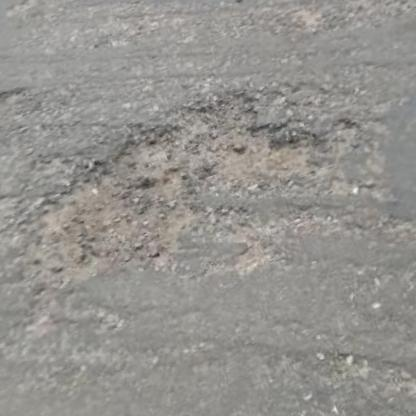pothole: (2, 42, 382, 301), (0, 49, 38, 183)
